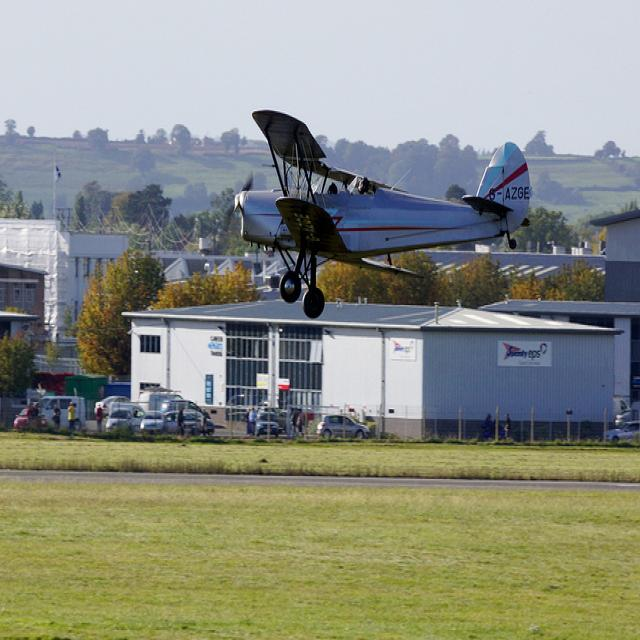Vehicle: (315, 413, 369, 442), (108, 400, 145, 432), (180, 407, 216, 435), (138, 388, 183, 410), (106, 406, 144, 431), (606, 420, 640, 445), (164, 410, 197, 433), (275, 410, 303, 436), (93, 396, 131, 414), (139, 408, 165, 434), (255, 413, 280, 438), (160, 397, 199, 411), (14, 409, 32, 430), (161, 400, 189, 412)
